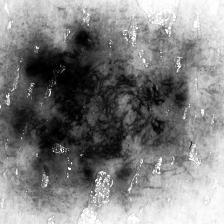Benign Marking or Mole: (6, 24, 197, 192)
